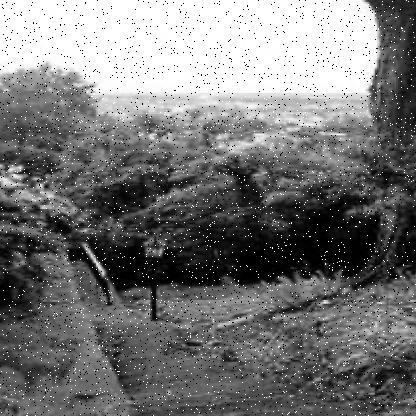stair_down: (131, 340, 291, 416)
